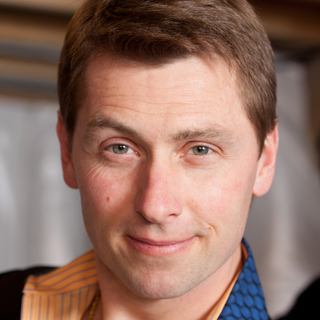eye: (96, 134, 143, 163), (176, 140, 224, 161)
